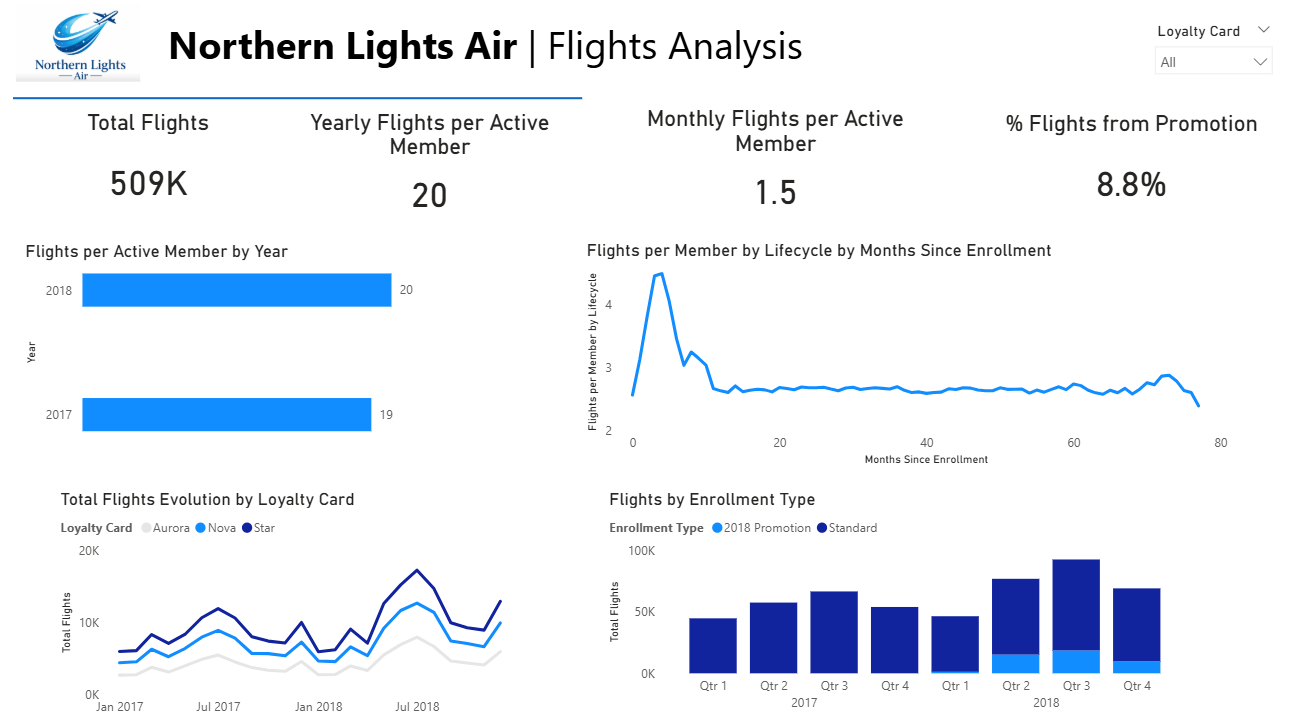

What the dashboard file says about the page in this screenshot:
{"tool":"powerbi","page":{"name":"Flights Analysis","canvas":[1280,720],"ordinal":4},"visuals":[{"type":"barChart","fields":{"Category":["Dim_Date.Start of Month.Variation.Date Hierarchy.Year","Dim_Date.Start of Month.Variation.Date Hierarchy.Quarter","Dim_Date.Start of Month.Variation.Date Hierarchy.Month","Dim_Date.Start of Month.Variation.Date Hierarchy.Day"],"Y":["Measure Table.Flights per Active Member"]},"box":[26.9,243.3,476.9,200.5],"z":0},{"type":"lineChart","title":"Total Flights Evolution by Loyalty Card","fields":{"Y":["Measure Table.Total Flights"],"Series":["Dim_Customer.Loyalty Card"],"Category":["Dim_Date.Date.Variation.Date Hierarchy.Year","Dim_Date.Date.Variation.Date Hierarchy.Month"]},"box":[61.7,485.8,462.4,231.9],"z":1000},{"type":"lineChart","fields":{"Category":["Fact_FlightActivity.Months Since Enrollment"],"Y":["Measure Table.Flights per Member by Lifecycle"]},"box":[575.8,242.6,640.1,226.5],"z":2000},{"type":"card","title":"Total Flights","fields":{"Values":["Measure Table.Total Flights"]},"box":[39.5,115.5,225.1,114],"z":3000},{"type":"columnChart","title":"Flights by Enrollment Type","fields":{"Y":["Measure Table.Total Flights"],"Category":["Dim_Date.Start of Month.Variation.Date Hierarchy.Year","Dim_Date.Start of Month.Variation.Date Hierarchy.Quarter"],"Series":["Dim_Customer.Enrollment Type"]},"box":[597.8,485.6,574,232.2],"z":4000},{"type":"textbox","box":[166,20.9,1012,66.1],"z":5000},{"type":"shape","box":[19,29.2,556.8,149.1],"z":6000},{"type":"card","title":"Yearly Flights per Active Member","fields":{"Values":["Measure Table.Flights per Active Member (Year Avg)"]},"box":[278.4,114.8,296.9,113.5],"z":7000},{"type":"slicer","fields":{"Values":["Dim_Customer.Loyalty Card"]},"box":[1126.8,24.8,135.9,84.8],"z":8000},{"type":"card","title":"Monthly Flights per Active Member","fields":{"Values":["Measure Table.Flights per Active Member per Month"]},"box":[616.2,110.8,298.2,114.8],"z":9000},{"type":"card","title":"% Flights from Promotion","fields":{"Values":["Measure Table.Flights from Promotion %"]},"box":[964.6,116.1,298.2,114.8],"z":10000},{"type":"image","box":[0,6.3,166.3,86.3],"z":11000}]}

Visuals, with their boxes in screenshot pixels (x1, y1, x2, y2), scaled from the page's 1280x720 canvas onto the 1297x724 screenshot:
barChart - Dim_Date.Start of Month.Variation.Date Hierarchy.Year x Dim_Date.Start of Month.Variation.Date Hierarchy.Quarter: select_region(27, 245, 510, 446)
"Total Flights Evolution by Loyalty Card" lineChart: select_region(63, 488, 531, 722)
lineChart - Fact_FlightActivity.Months Since Enrollment x Measure Table.Flights per Member by Lifecycle: select_region(583, 244, 1232, 472)
"Total Flights" card: select_region(40, 116, 268, 231)
"Flights by Enrollment Type" columnChart: select_region(606, 488, 1187, 722)
textbox: select_region(168, 21, 1194, 87)
shape: select_region(19, 29, 583, 179)
"Yearly Flights per Active Member" card: select_region(282, 115, 583, 230)
slicer - Dim_Customer.Loyalty Card: select_region(1142, 25, 1279, 110)
"Monthly Flights per Active Member" card: select_region(624, 111, 927, 227)
"% Flights from Promotion" card: select_region(977, 117, 1280, 232)
image: select_region(0, 6, 169, 93)
